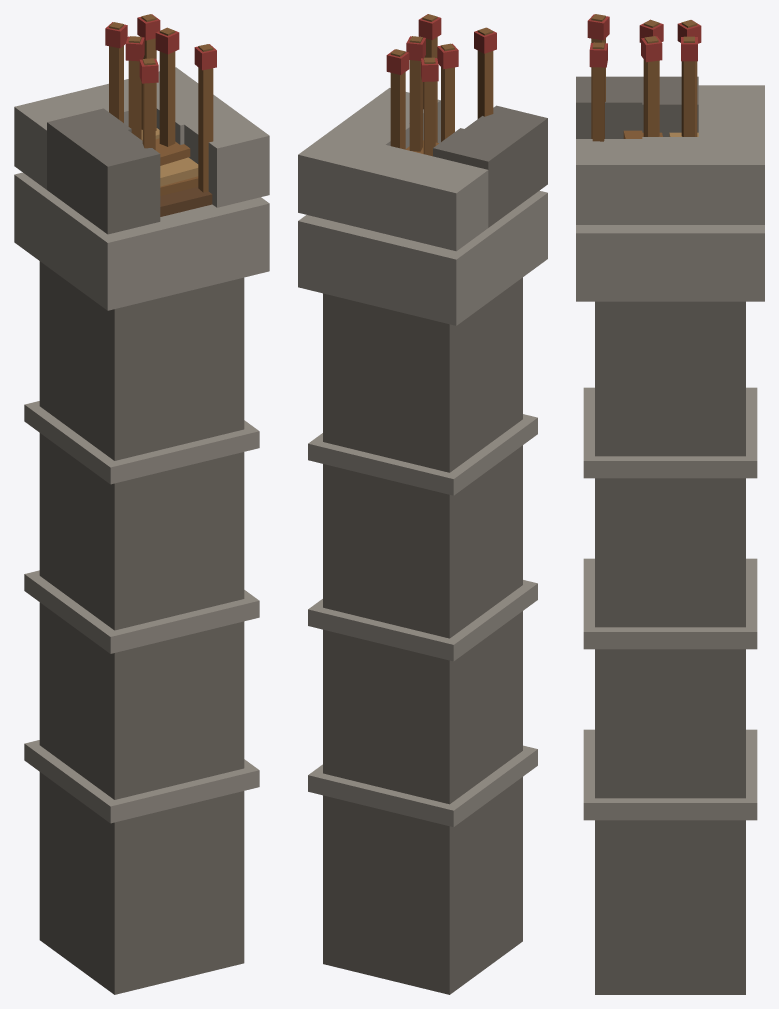
The model's file is site_1x1_1.glb.
3 renders of one model, left to right at view 1: azimuth 30°, elevation 25°; view 2: azimuth 150°, elevation 25°; view 3: azimuth 270°, elevation 25°, orthographic. The views are drawn at different scales.
Visible parts, largest first — view 1: site_1x1_1; view 2: site_1x1_1; view 3: site_1x1_1.
Part boxes in pixels (x1,y1,x2,y2): site_1x1_1: [14, 14, 269, 994]; site_1x1_1: [298, 14, 547, 994]; site_1x1_1: [576, 14, 764, 994].
Bounding box in the file's own units: 1 × 5.45 × 1.
